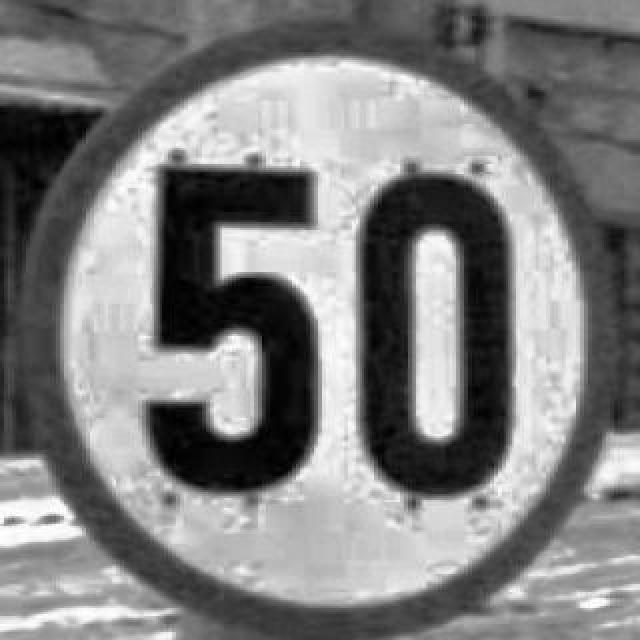50 kph: (14, 18, 618, 638)
